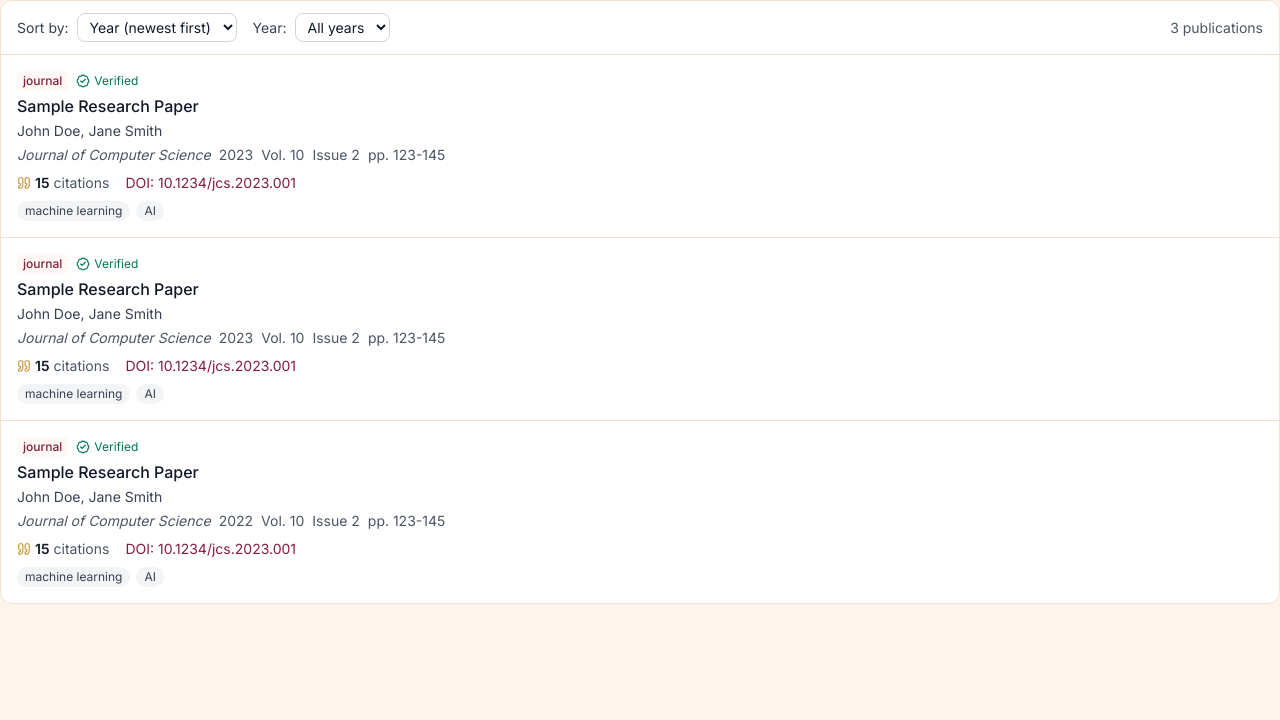
PublicationList Component › Result Count Display - Requirements 8.7 › should update count when filtering
Expected: the text "3 publications" is shown, 1170,18 -> 1263,38
Select "2023" in the dropdown showing "All years" at (342, 28), box 294,13 -> 390,42
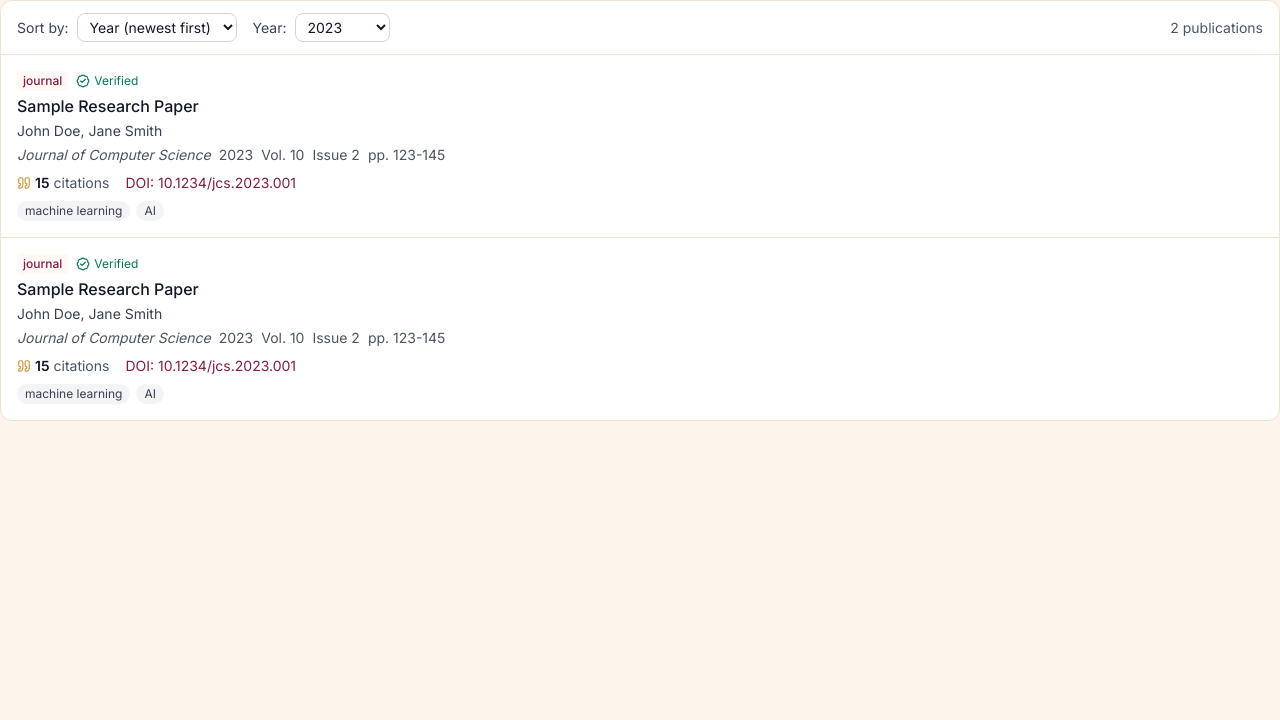
Expected: the text "2 publications" is shown, 1170,18 -> 1263,38
